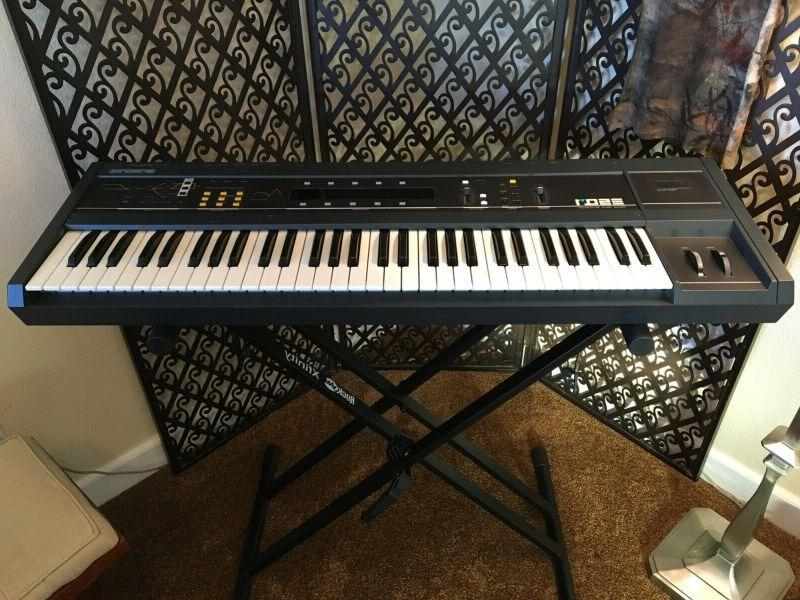synthesizer: (13, 159, 789, 325)
